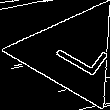L_NW: (38, 26, 104, 80)
